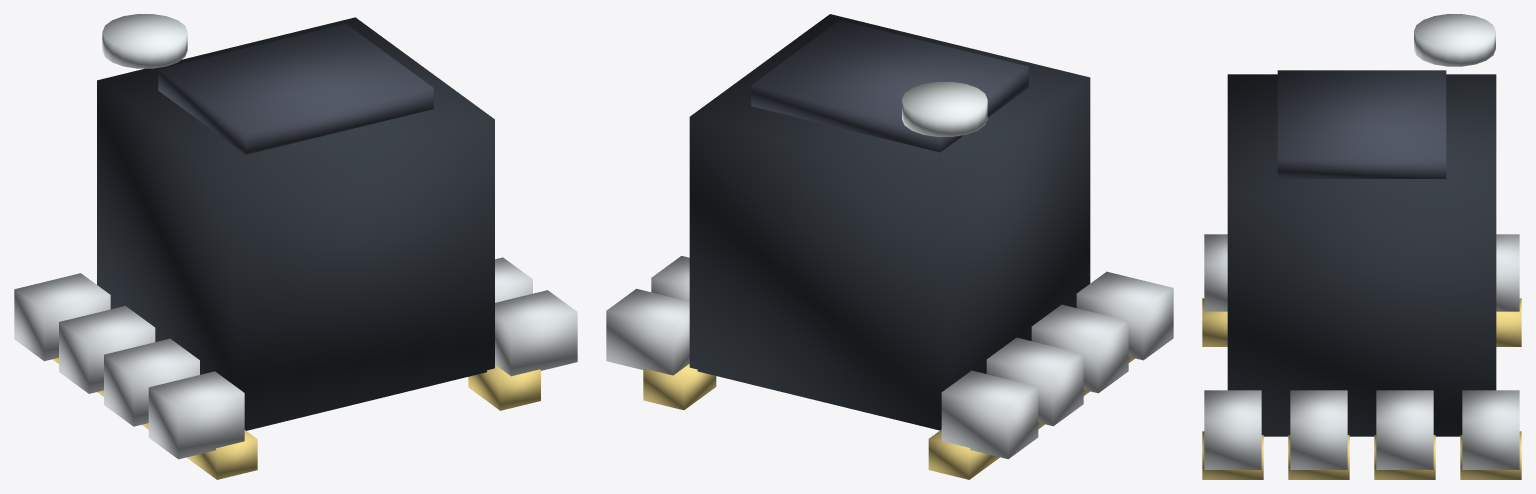
File: 18_L95_U1_TLC555CMOSTimer_SOIC8.fbx
3 views of the same model, side by side, from view 1: azimuth 30°, elevation 25°; view 2: azimuth 150°, elevation 25°; view 3: azimuth 270°, elevation 25° (orthographic). The views are drawn at different scales.
Parts seen in each view (by area): view 1: L95_TLC555CMOSTimer_SOIC8_Part_0000, L95_TLC555CMOSTimer_SOIC8_Part_0002, L95_TLC555CMOSTimer_SOIC8_Part_0001, L95_TLC555CMOSTimer_SOIC8_Part_0003, L95_TLC555CMOSTimer_SOIC8_Part_0004; view 2: L95_TLC555CMOSTimer_SOIC8_Part_0000, L95_TLC555CMOSTimer_SOIC8_Part_0002, L95_TLC555CMOSTimer_SOIC8_Part_0001, L95_TLC555CMOSTimer_SOIC8_Part_0003, L95_TLC555CMOSTimer_SOIC8_Part_0004; view 3: L95_TLC555CMOSTimer_SOIC8_Part_0000, L95_TLC555CMOSTimer_SOIC8_Part_0002, L95_TLC555CMOSTimer_SOIC8_Part_0001, L95_TLC555CMOSTimer_SOIC8_Part_0003, L95_TLC555CMOSTimer_SOIC8_Part_0004.
Part boxes in pixels (x1,y1,x2,y2): L95_TLC555CMOSTimer_SOIC8_Part_0000: [97, 17, 494, 430]; L95_TLC555CMOSTimer_SOIC8_Part_0002: [14, 257, 577, 459]; L95_TLC555CMOSTimer_SOIC8_Part_0001: [158, 24, 433, 154]; L95_TLC555CMOSTimer_SOIC8_Part_0003: [53, 357, 540, 479]; L95_TLC555CMOSTimer_SOIC8_Part_0004: [102, 14, 187, 68]; L95_TLC555CMOSTimer_SOIC8_Part_0000: [689, 14, 1090, 430]; L95_TLC555CMOSTimer_SOIC8_Part_0002: [606, 256, 1173, 459]; L95_TLC555CMOSTimer_SOIC8_Part_0001: [751, 20, 1028, 152]; L95_TLC555CMOSTimer_SOIC8_Part_0003: [643, 357, 1134, 479]; L95_TLC555CMOSTimer_SOIC8_Part_0004: [902, 82, 987, 136]; L95_TLC555CMOSTimer_SOIC8_Part_0000: [1227, 74, 1496, 436]; L95_TLC555CMOSTimer_SOIC8_Part_0002: [1204, 234, 1519, 469]; L95_TLC555CMOSTimer_SOIC8_Part_0001: [1277, 70, 1446, 178]; L95_TLC555CMOSTimer_SOIC8_Part_0003: [1202, 298, 1521, 479]; L95_TLC555CMOSTimer_SOIC8_Part_0004: [1414, 14, 1495, 66].
Bounding box in the file's own units: 0.1082 × 0.0875 × 0.078.
